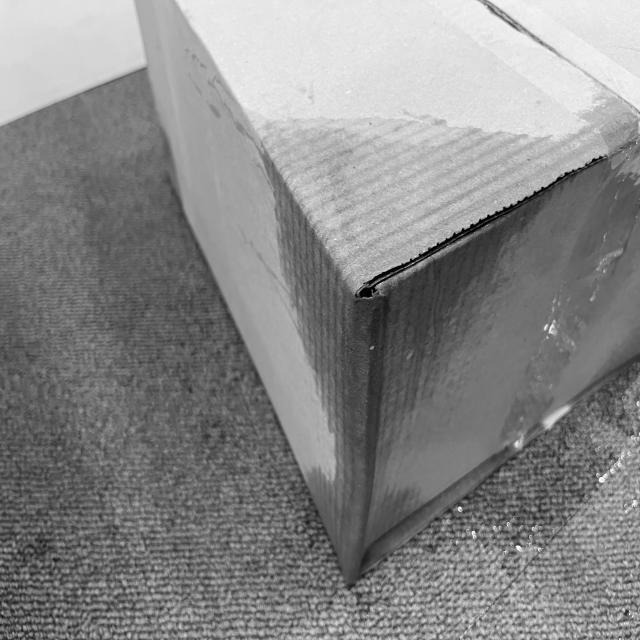wet: (208, 93, 640, 581)
